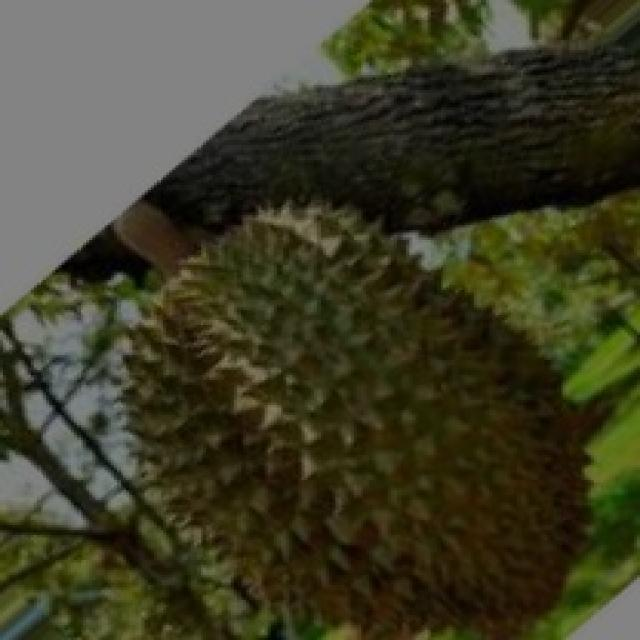fruit: (15, 182, 372, 638), (264, 265, 634, 640)
